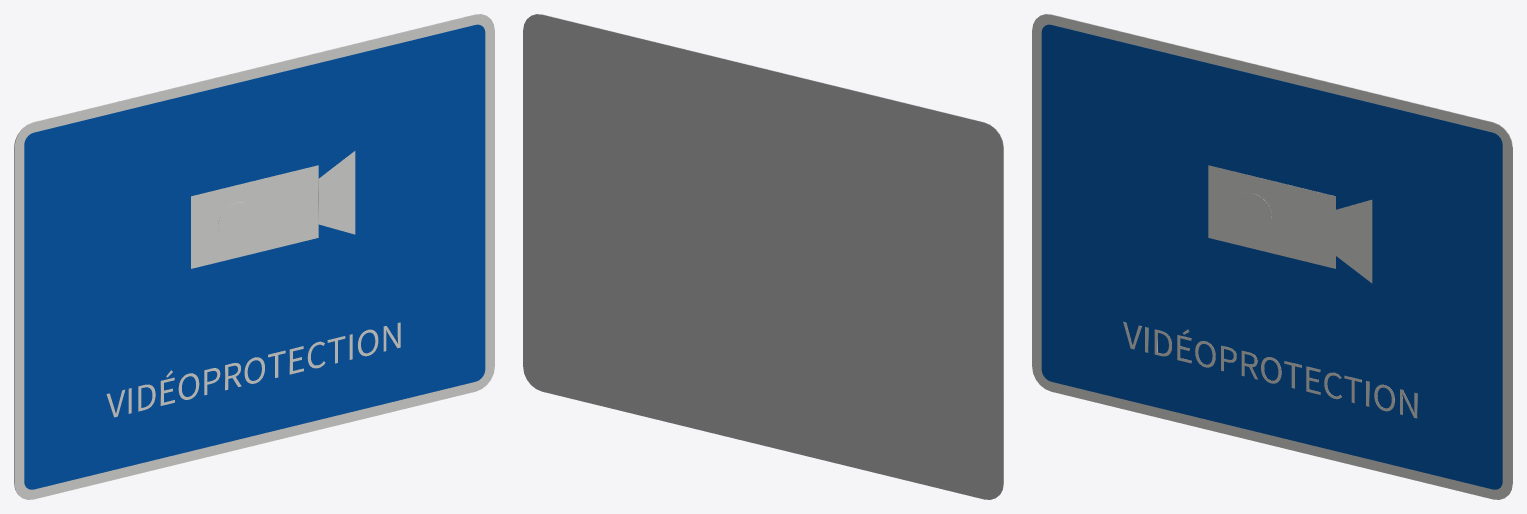
3 views of the same model, side by side, from view 1: azimuth 30°, elevation 25°; view 2: azimuth 150°, elevation 25°; view 3: azimuth 330°, elevation 25° (orthographic).
Visible parts, largest first — view 1: SR4_r01, SR4_r00, SR4_p02, SR4_txt05, SR4_p03, SR4_d04, SR4_dos; view 2: SR4_dos; view 3: SR4_r01, SR4_r00, SR4_p02, SR4_txt05, SR4_p03, SR4_d04, SR4_dos.
Boxes of the visible parts, box(x1,y1,x2,y2) form: SR4_r01: box(24, 24, 485, 489); SR4_r00: box(14, 14, 494, 499); SR4_p02: box(191, 165, 318, 268); SR4_txt05: box(106, 322, 400, 417); SR4_p03: box(318, 151, 355, 234); SR4_d04: box(218, 202, 254, 241); SR4_dos: box(14, 14, 483, 493); SR4_dos: box(523, 14, 1003, 499); SR4_r01: box(1041, 24, 1502, 489); SR4_r00: box(1032, 14, 1512, 499); SR4_p02: box(1208, 165, 1335, 268); SR4_txt05: box(1123, 321, 1417, 418); SR4_p03: box(1335, 200, 1372, 283); SR4_d04: box(1235, 193, 1271, 232); SR4_dos: box(1043, 14, 1512, 493).
Size of the model in its own units: 1 by 0.75 by 0.0037.
